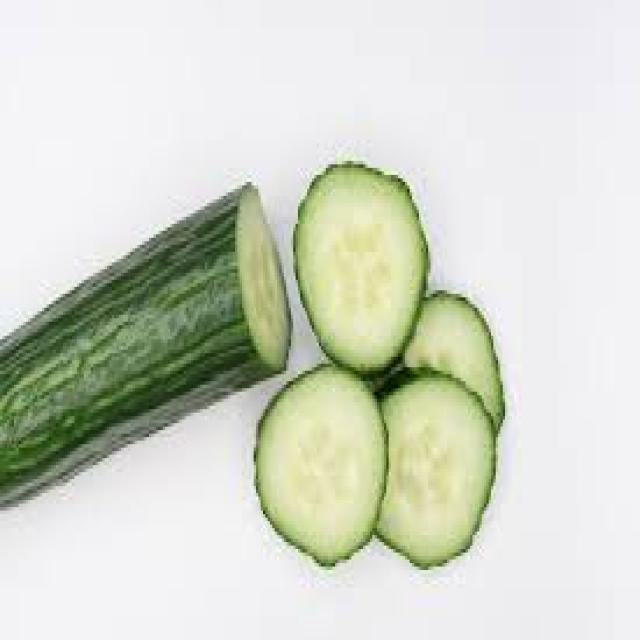Pickle: (0, 189, 271, 504), (296, 163, 427, 373), (255, 364, 386, 564), (376, 370, 495, 564)
